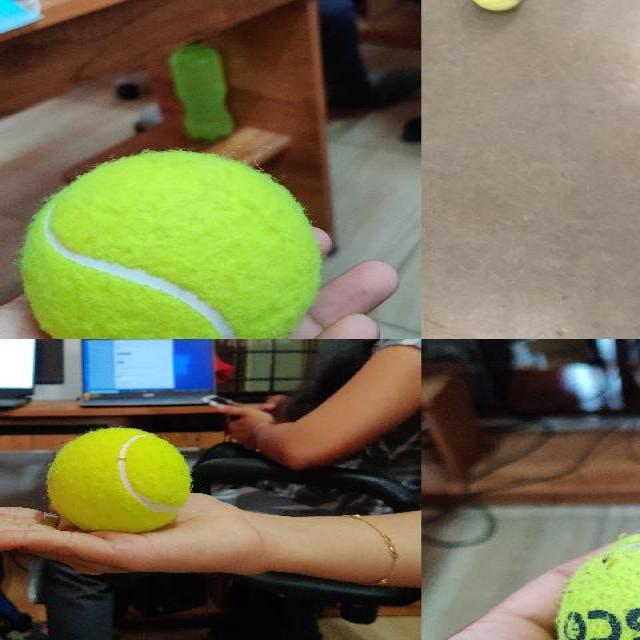tennis-ball: (21, 150, 319, 338), (49, 428, 189, 528), (467, 0, 525, 11)
